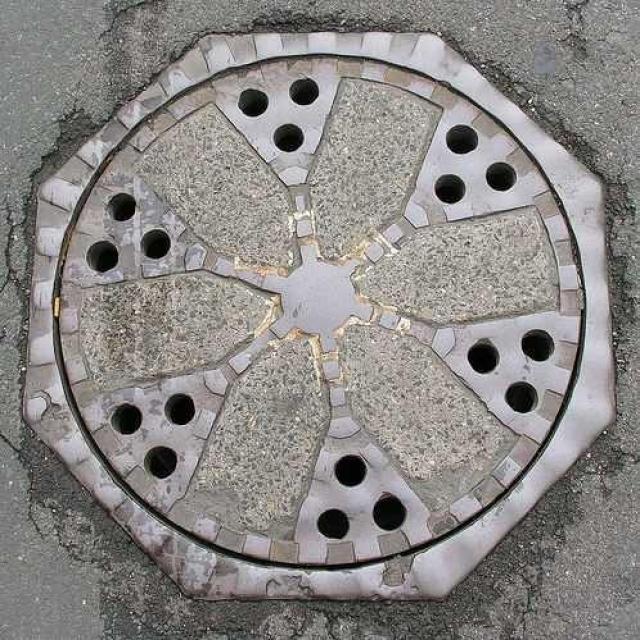manhole: (25, 34, 612, 598)
